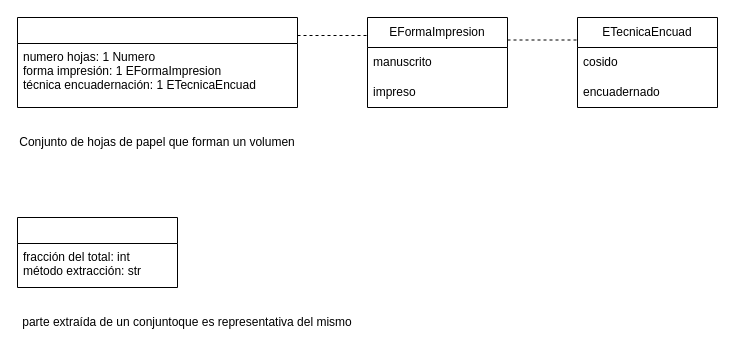
Some shapes in this 735 by 355 pixel diagram are drawn without their labels. The shapes that lost their labels are listed below. From the top down, each one's box as (x1, y1, x2, y2) in pixels, then its label:
(16, 16, 298, 108): Libro
(16, 216, 178, 288): Muestra
